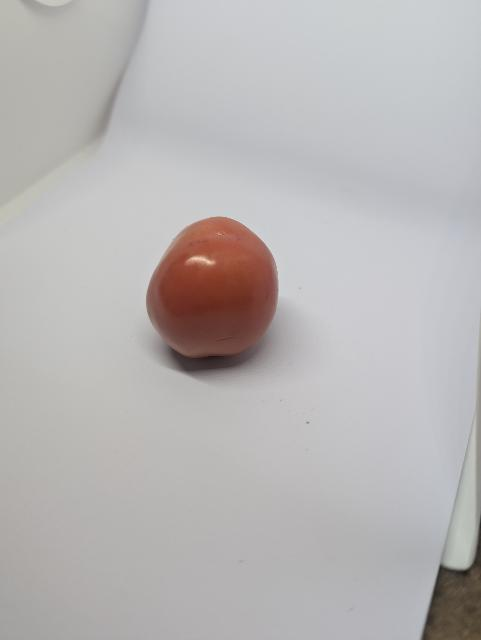red: (131, 204, 302, 375)
